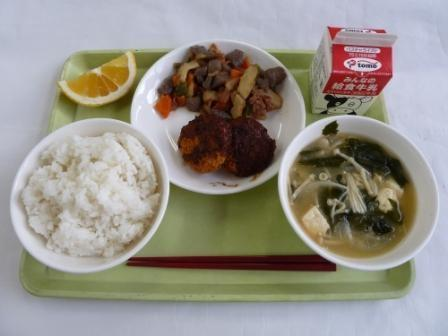Citrus: (43, 42, 144, 116)
Milk: (308, 23, 397, 121)
Rice: (16, 120, 152, 270)
Soups: (283, 122, 434, 266)
cooked food meat with vegetables: (157, 38, 282, 117)
cutlet: (179, 111, 274, 181)
